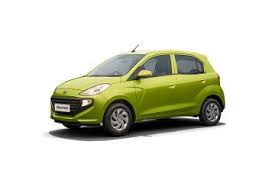car: (50, 49, 226, 137)
